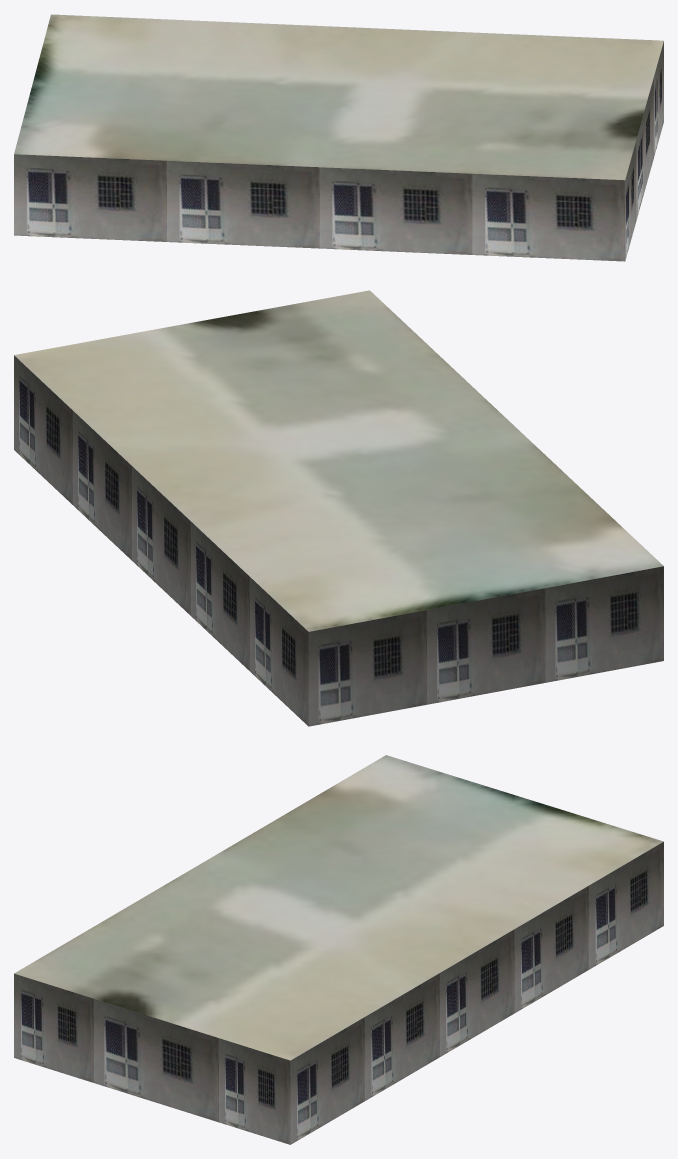
3 views of the same model, one above another, from view 1: azimuth 30°, elevation 25°; view 2: azimuth 150°, elevation 25°; view 3: azimuth 270°, elevation 25° (orthographic). The views are drawn at different scales.
Visible parts, largest first — view 1: SketchUp (×5); view 2: SketchUp (×3); view 3: SketchUp (×5).
Part boxes in pixels (x1,y1,x2,y2): SketchUp (×5): [14, 14, 663, 261]; SketchUp (×3): [14, 290, 663, 726]; SketchUp (×5): [14, 755, 663, 1144].
Bounding box in the file's own units: 27.2 × 24.45 × 3.5.
2 materials, 2 textured.
